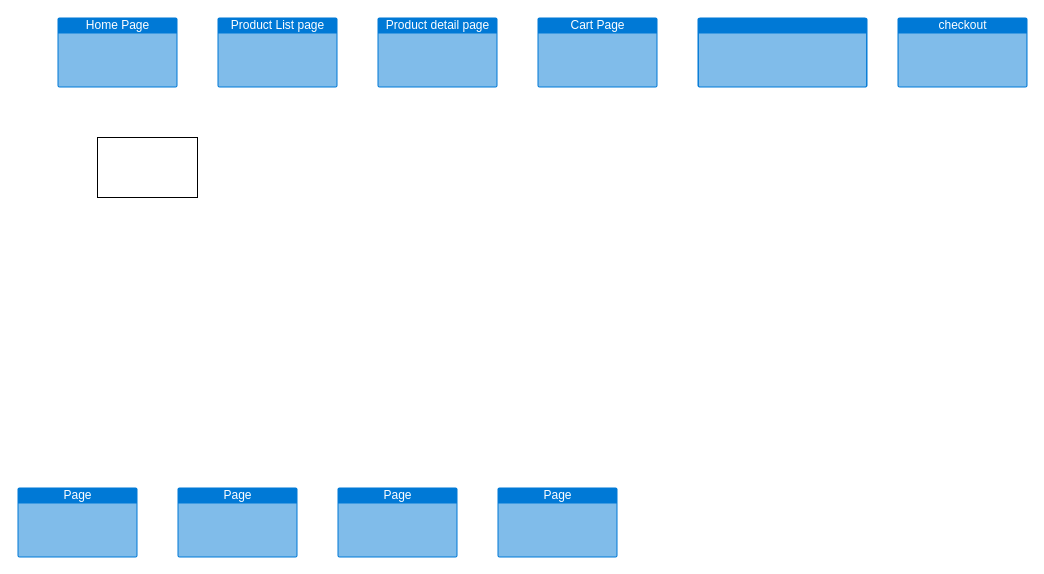
The diagram is 1044 pixels wide and 574 high, and some of its shapes have lost their labels. The shapes that lost their labels are listed below. From the top down, each one's centre as x and y in pixels, then its label:
the point at 782,52: Sign In / Signup To check out
the point at 147,167: Division
